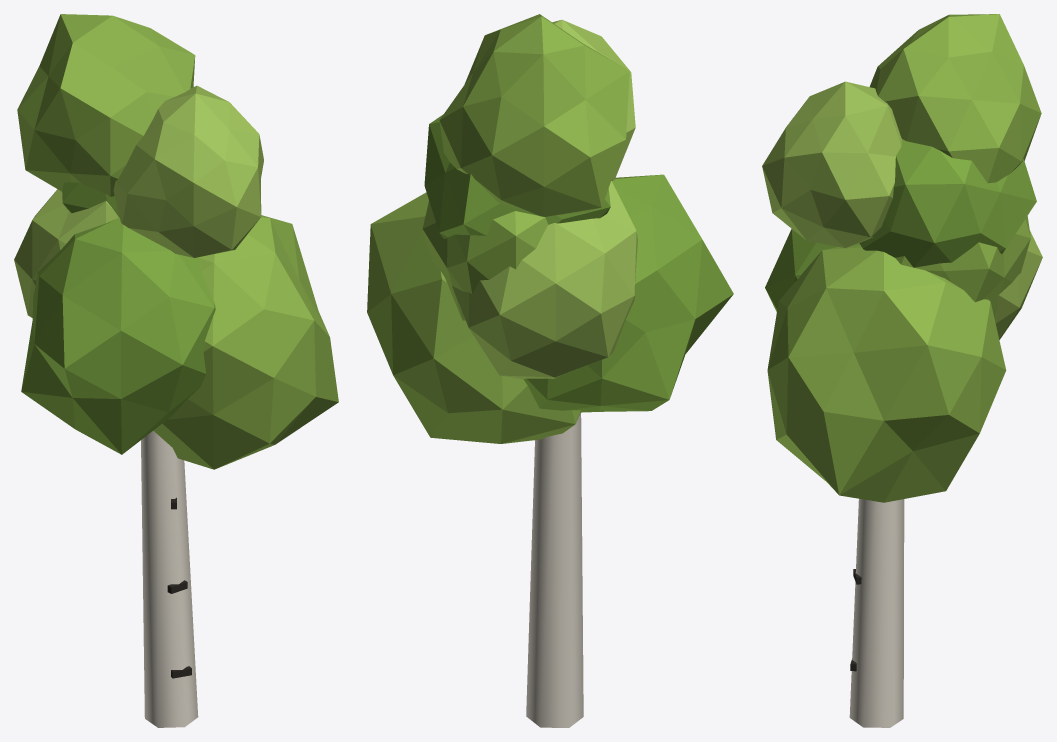
Rendered from tree_birch_2.glb.
3 renders of one model, left to right at view 1: azimuth 30°, elevation 25°; view 2: azimuth 150°, elevation 25°; view 3: azimuth 270°, elevation 25°, orthographic. The views are drawn at different scales.
Parts seen in each view (by area): view 1: crown, trunk; view 2: crown, trunk; view 3: crown, trunk.
Part boxes in pixels (bbox=[...]): crown: bbox=[14, 14, 338, 469]; trunk: bbox=[141, 431, 198, 727]; crown: bbox=[367, 14, 733, 443]; trunk: bbox=[526, 413, 583, 727]; crown: bbox=[762, 14, 1042, 502]; trunk: bbox=[849, 498, 904, 727].
Size of the model in its own units: 1.12 by 2.54 by 0.9355.
